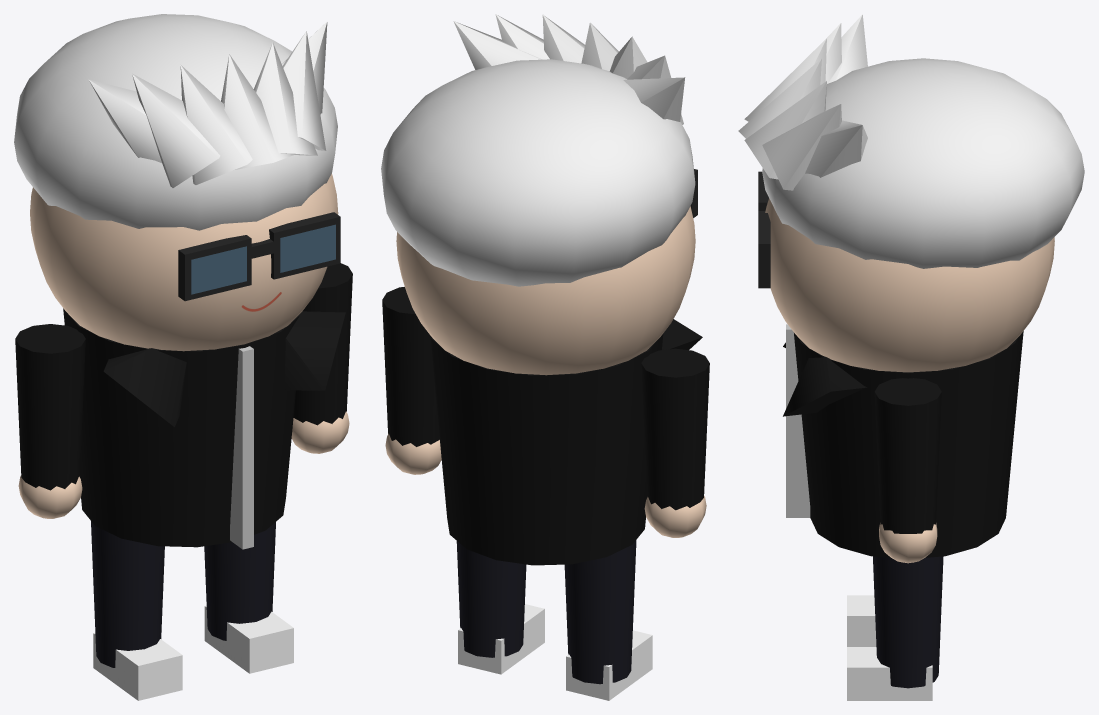
The model's file is Jensen_Huang_Chibi.glb.
The picture shows the model from 3 angles, left to right: view 1: azimuth 30°, elevation 25°; view 2: azimuth 150°, elevation 25°; view 3: azimuth 270°, elevation 25°; orthographic projection. The views are drawn at different scales.
Size of the model in its own units: 1.18 by 2.19 by 1.13.
9 materials, 1 textured.
